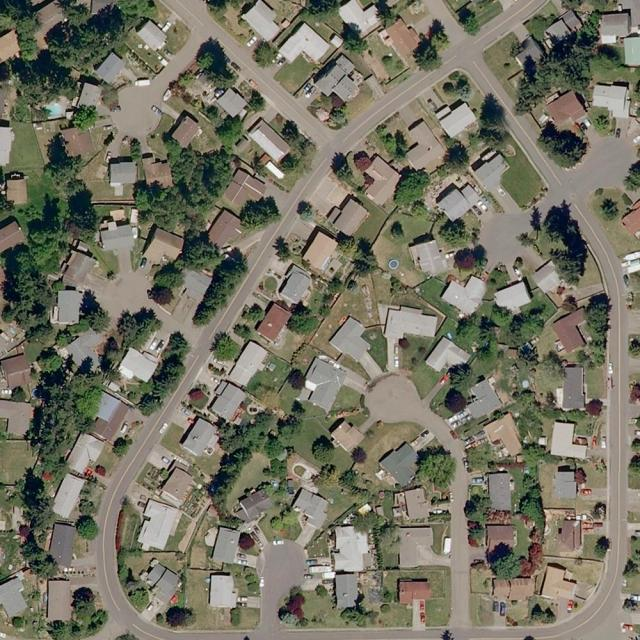building: (276, 485, 335, 549), (392, 117, 452, 179), (295, 356, 350, 412), (277, 21, 332, 76), (352, 154, 407, 209), (133, 499, 182, 557), (439, 266, 492, 319), (64, 325, 116, 376), (376, 438, 428, 489), (328, 314, 379, 364), (481, 411, 530, 463), (432, 175, 482, 225), (21, 0, 70, 51), (226, 339, 272, 392), (467, 145, 516, 194), (376, 14, 425, 62), (221, 168, 270, 216), (139, 225, 187, 274), (404, 231, 450, 282), (424, 335, 472, 382), (324, 192, 371, 239), (88, 392, 130, 444), (432, 93, 479, 139), (246, 118, 293, 164), (551, 307, 598, 353), (310, 51, 356, 97), (544, 88, 590, 134), (399, 527, 450, 568), (64, 430, 107, 478), (331, 525, 372, 574), (203, 208, 247, 253), (459, 379, 504, 423), (230, 485, 275, 528), (275, 263, 316, 308), (116, 346, 160, 387), (208, 380, 249, 424), (157, 464, 198, 508), (56, 248, 96, 292), (179, 416, 219, 459), (50, 472, 86, 519), (589, 82, 633, 120), (542, 8, 584, 47), (301, 230, 339, 272), (255, 302, 293, 344), (384, 309, 438, 338), (174, 263, 213, 303), (0, 575, 35, 619), (327, 418, 366, 457), (550, 421, 590, 459), (390, 487, 432, 523), (509, 34, 548, 72), (540, 563, 578, 602), (493, 281, 533, 317), (140, 149, 174, 191), (47, 521, 77, 567), (150, 568, 186, 605), (0, 353, 35, 391), (210, 526, 243, 566), (597, 10, 634, 45), (0, 400, 34, 438), (169, 114, 203, 150), (529, 261, 563, 297), (100, 223, 137, 256), (136, 20, 171, 54), (93, 51, 127, 86), (60, 124, 94, 158), (560, 365, 585, 410), (54, 288, 83, 325), (216, 86, 248, 119), (46, 579, 71, 621), (209, 573, 238, 608), (397, 577, 432, 605), (331, 75, 362, 106), (487, 472, 510, 511), (556, 518, 583, 551), (335, 572, 359, 608), (76, 80, 103, 111), (554, 465, 578, 499), (486, 524, 515, 551), (109, 161, 138, 186), (508, 577, 536, 601), (0, 30, 20, 62), (560, 8, 585, 33), (6, 177, 28, 205), (0, 126, 15, 166), (143, 563, 168, 587), (0, 86, 16, 119), (624, 36, 640, 66), (492, 579, 510, 598)
dryland: (300, 274, 394, 363), (344, 402, 425, 478), (542, 555, 604, 585), (364, 233, 403, 271), (395, 261, 428, 292), (370, 340, 387, 370)
greenland: (499, 9, 631, 133), (279, 235, 387, 342), (184, 395, 280, 515), (23, 363, 104, 484), (41, 2, 137, 81), (84, 296, 166, 379), (184, 244, 255, 332), (135, 329, 199, 423), (146, 228, 226, 303), (158, 140, 236, 216), (536, 198, 597, 287), (448, 292, 520, 365), (204, 298, 274, 369), (482, 137, 551, 209), (15, 467, 58, 580), (129, 180, 210, 237), (427, 357, 485, 425), (260, 396, 314, 466), (531, 116, 591, 174), (190, 36, 245, 94), (408, 17, 460, 76), (11, 61, 77, 107), (410, 439, 465, 492), (576, 292, 612, 369), (501, 305, 555, 349), (389, 163, 434, 214), (300, 586, 344, 634), (234, 192, 281, 233), (478, 93, 512, 148), (0, 440, 36, 485), (514, 390, 543, 443), (436, 212, 475, 251), (14, 13, 45, 62), (300, 0, 346, 33), (211, 111, 249, 150), (51, 313, 92, 349), (334, 19, 370, 58), (115, 0, 161, 30), (489, 551, 526, 586), (0, 0, 39, 33), (276, 587, 306, 627), (439, 141, 474, 175), (80, 290, 109, 331), (517, 489, 547, 528), (33, 344, 67, 378), (71, 511, 104, 544), (307, 433, 339, 466), (461, 492, 492, 525), (339, 601, 378, 627), (250, 39, 280, 71), (594, 41, 627, 66), (277, 151, 303, 177), (280, 119, 303, 145), (11, 96, 31, 123), (599, 197, 619, 221)
metalled_road: (54, 0, 459, 425), (357, 357, 525, 633), (560, 202, 638, 640), (153, 0, 330, 161), (101, 6, 212, 148), (436, 30, 533, 116), (471, 204, 547, 287), (503, 107, 568, 187), (77, 267, 154, 319), (152, 291, 211, 355), (454, 623, 570, 640), (131, 622, 240, 640), (512, 0, 543, 23)
